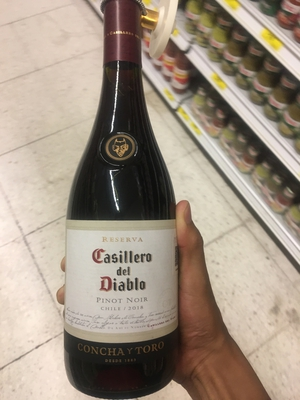casillero del diablo pinot noir: (50, 17, 187, 400)
